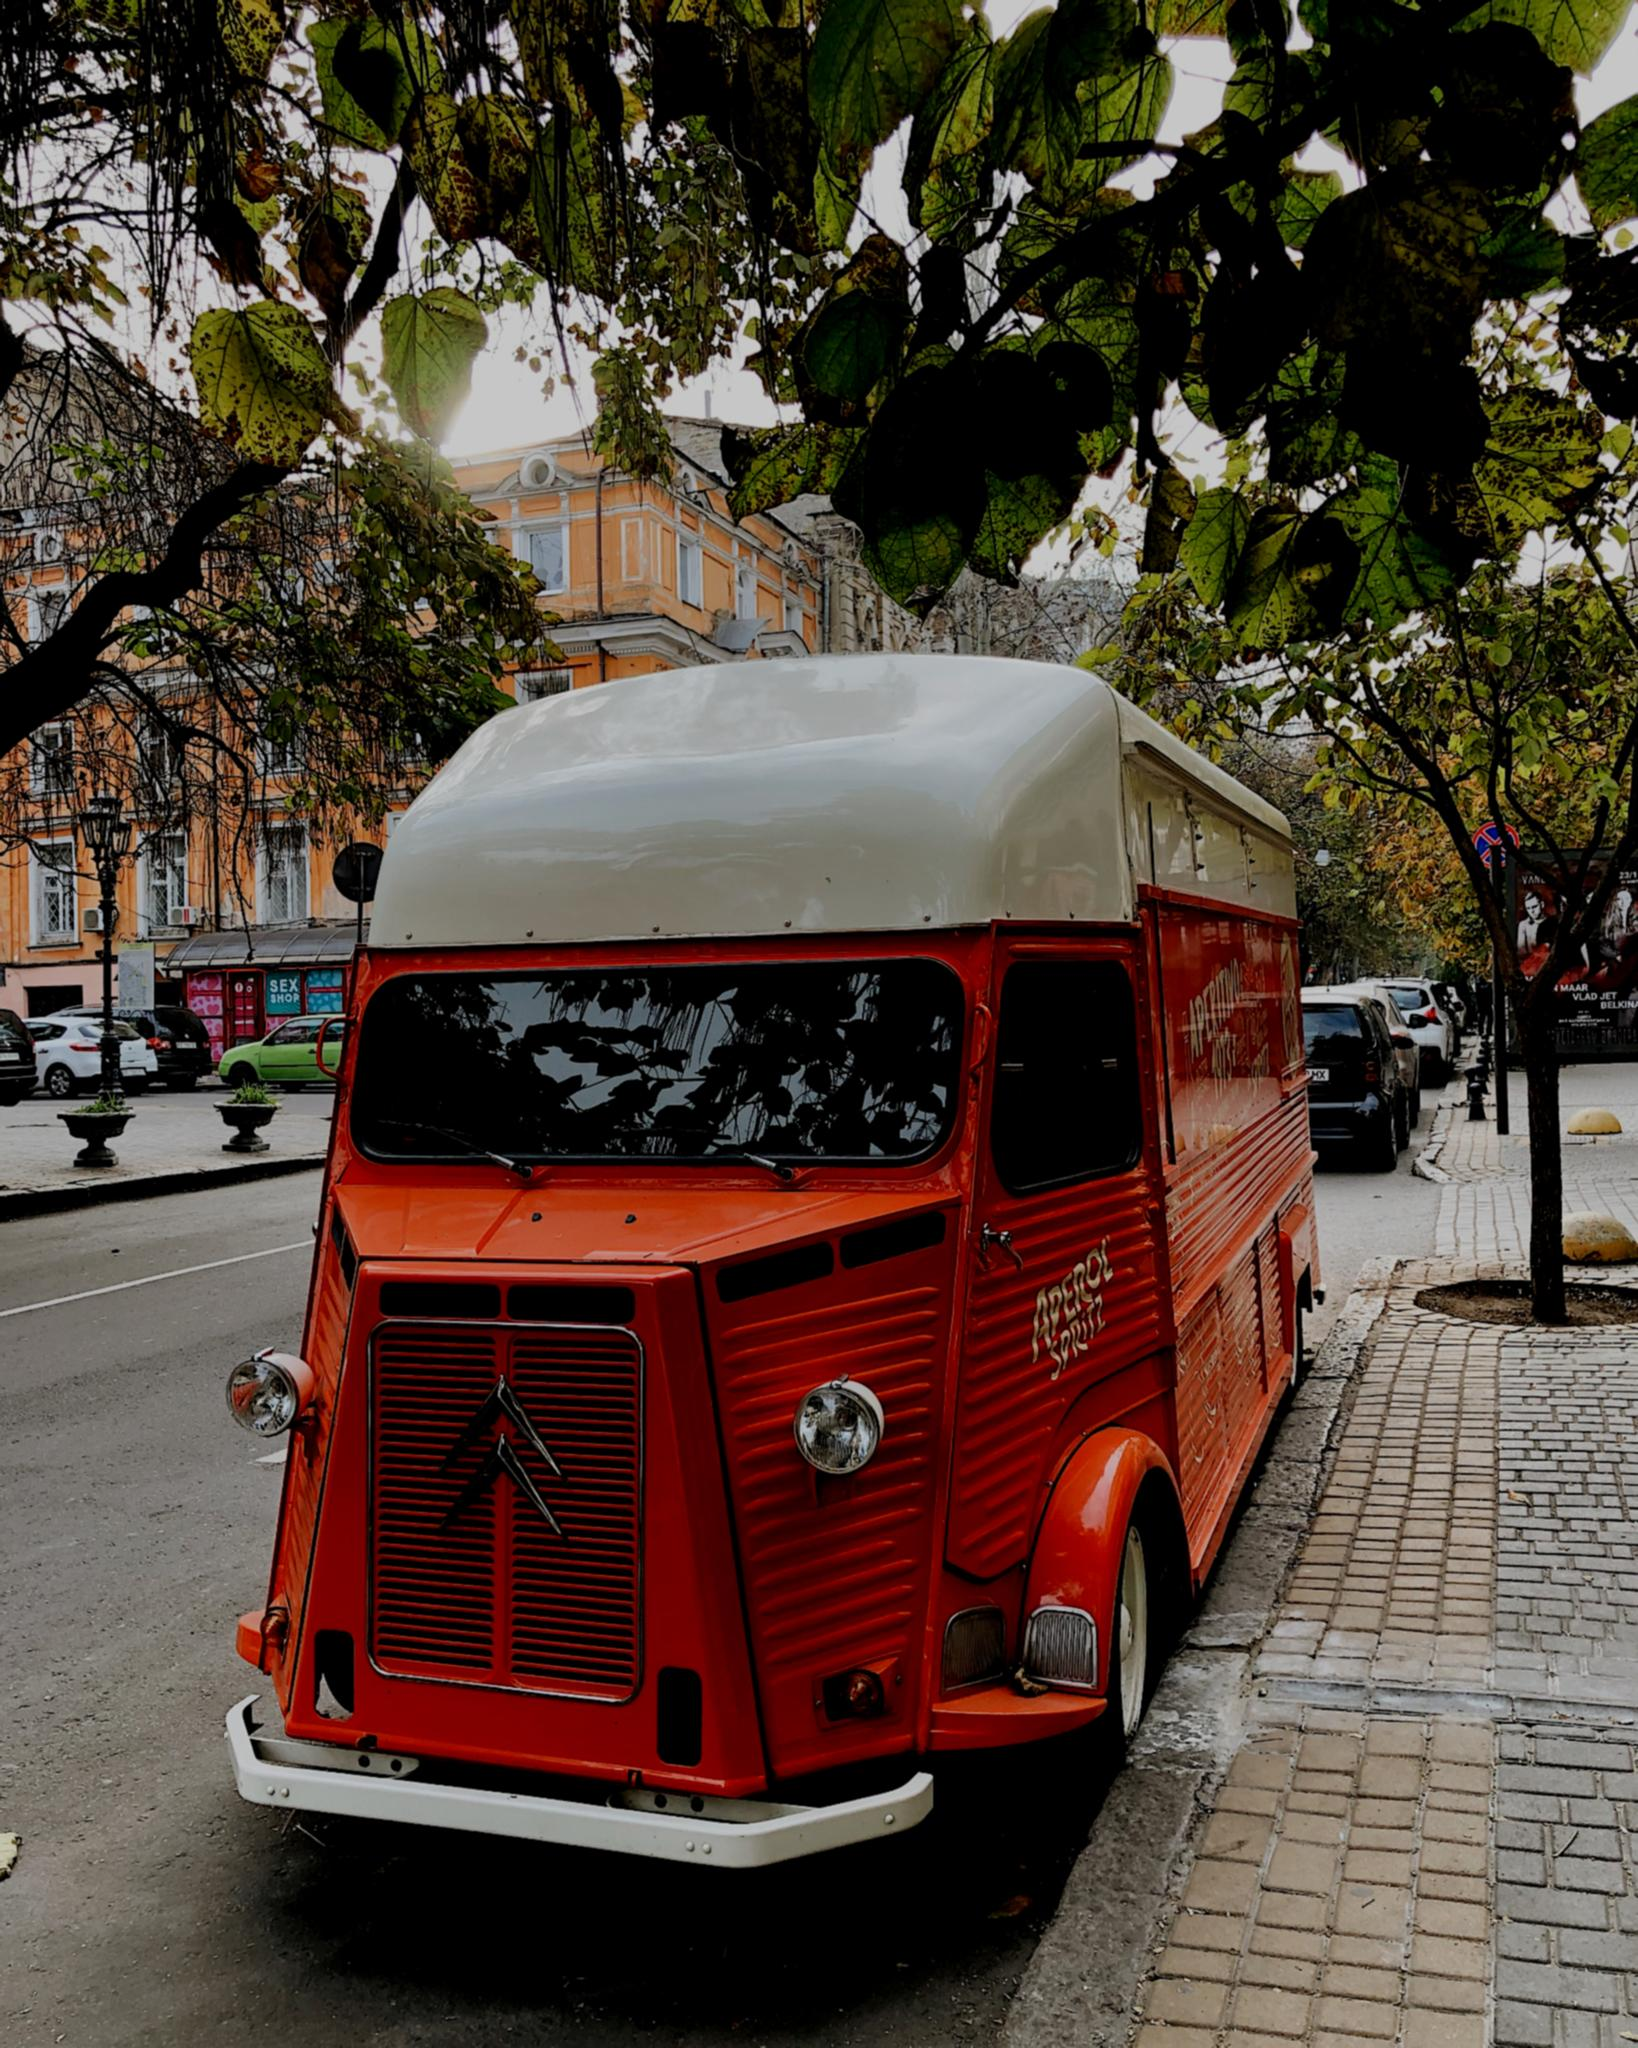Citroen: (415, 1359, 592, 1556)
